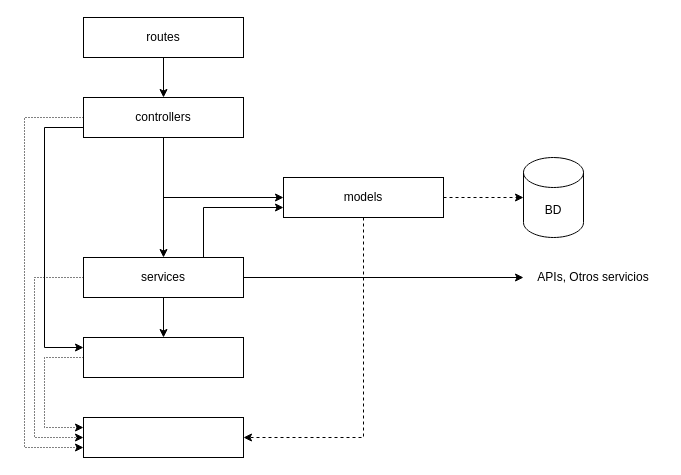
Some shapes in this 681 by 475 pixel diagram are drawn without their labels. The centre of each missing label's shape, as x and y in pixels:
"config" belongs at (x=163, y=437).
"utils" belongs at (x=163, y=357).
